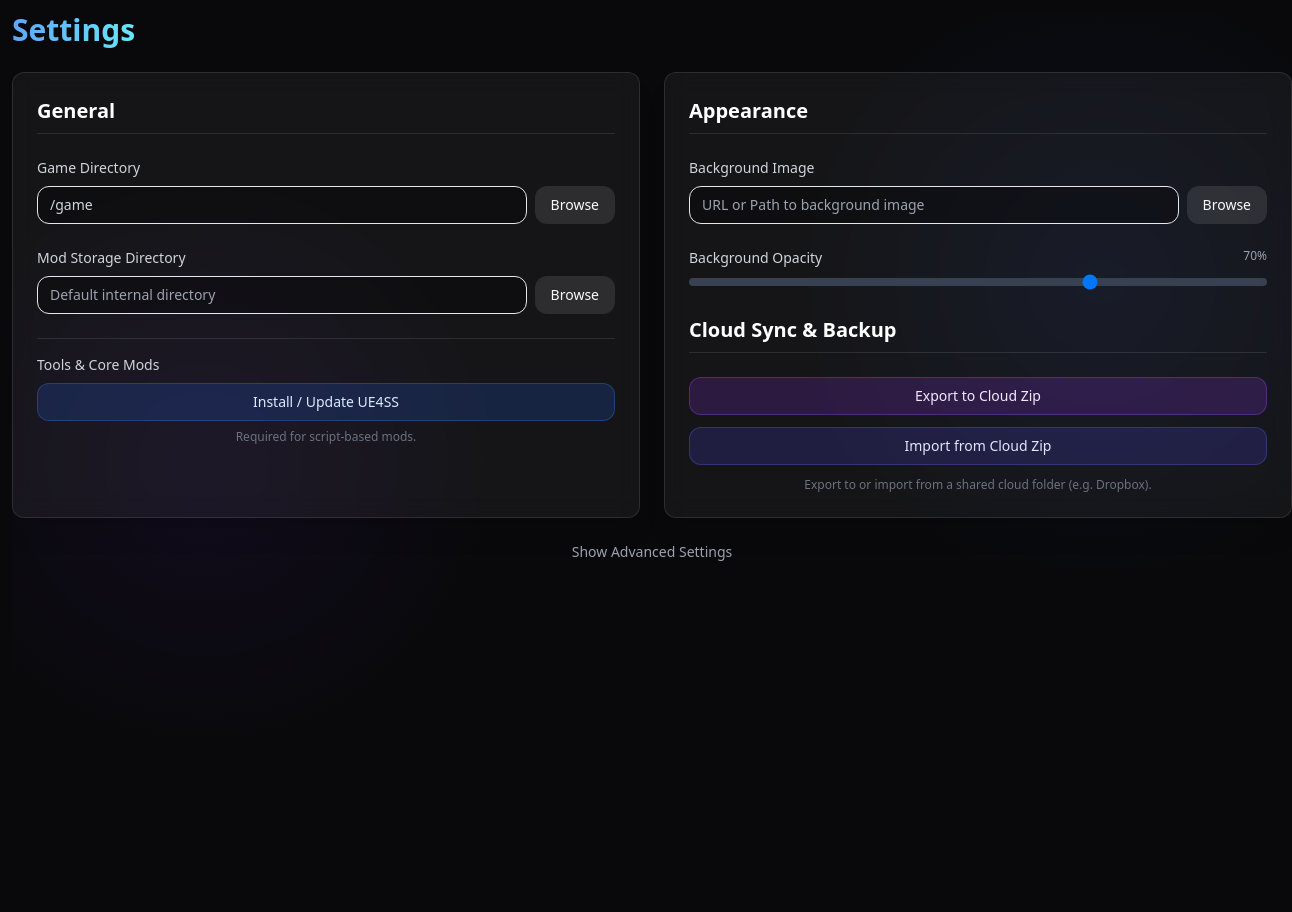
Scenario: Frontend Coverage Gaps › Settings Page Interactions › should handle UE4SS install failure
The image size is (1292, 912).
Click the button "Install / Update UE4SS": {"x": 326, "y": 402} [37,383,615,421]
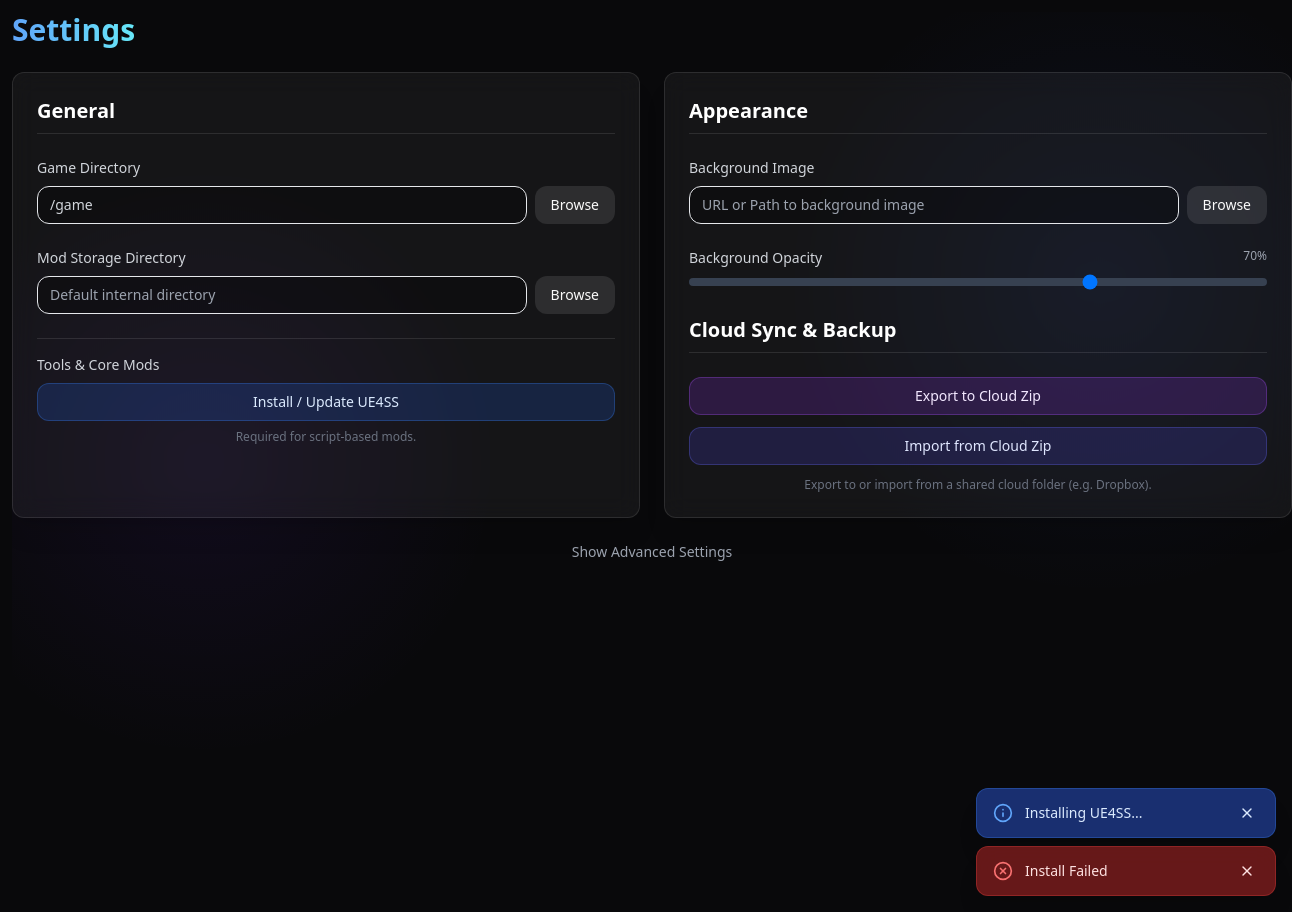
Result: the text "Install Failed" is shown at [1025,861,1108,880]
